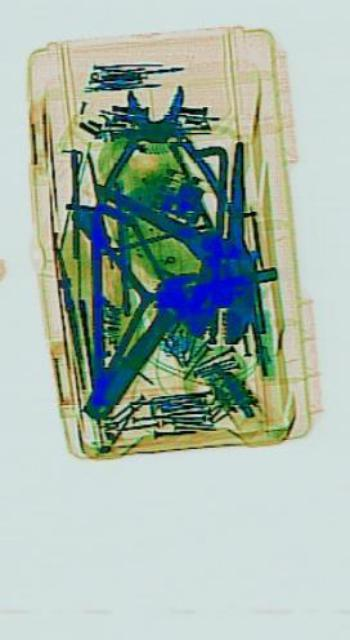Pliers: (87, 84, 230, 226)
